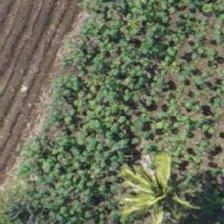coconut_tree: (123, 150, 213, 223)
